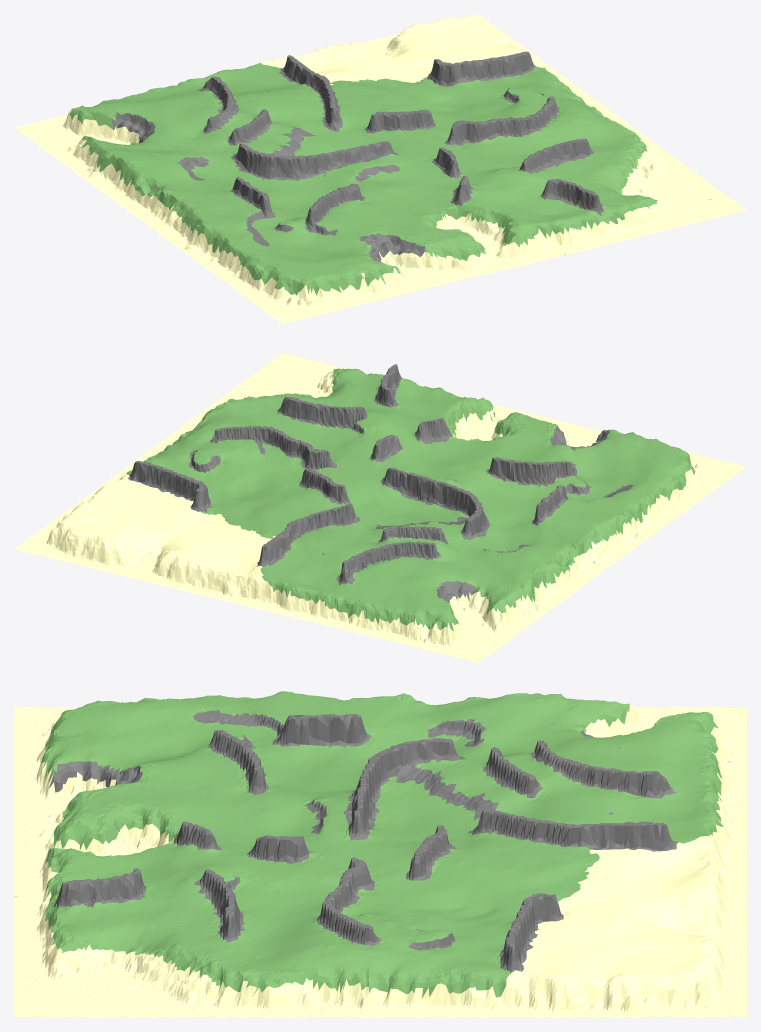
The model's file is Terrain_Low_poly.fbx.
3 views of the same model, one above another, from view 1: azimuth 30°, elevation 25°; view 2: azimuth 150°, elevation 25°; view 3: azimuth 270°, elevation 25° (orthographic). The views are drawn at different scales.
Parts seen in each view (by area): view 1: Terrain; view 2: Terrain; view 3: Terrain.
Boxes of the visible parts, box(x1,y1,x2,y2) form: Terrain: box(14, 14, 746, 323); Terrain: box(14, 352, 746, 662); Terrain: box(14, 691, 746, 1017).
Bounding box in the file's own units: 100008 × 7205 × 100007.
